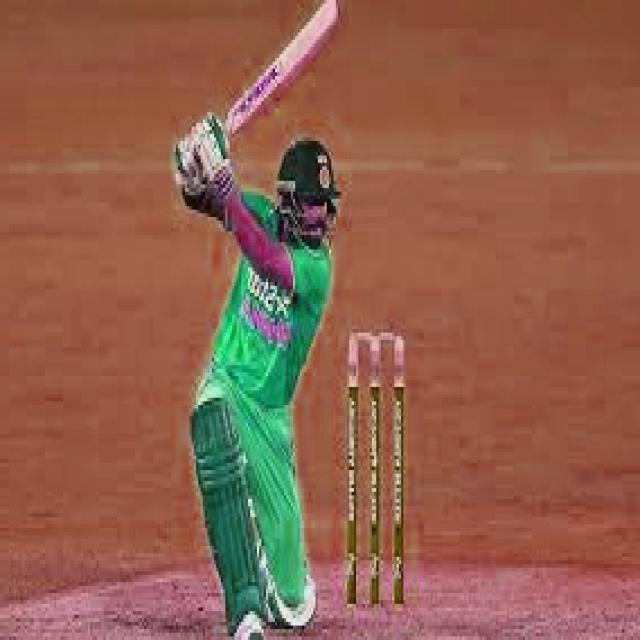toe: (305, 0, 348, 47)
